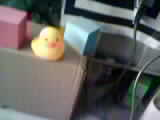duck: (26, 23, 72, 63)
